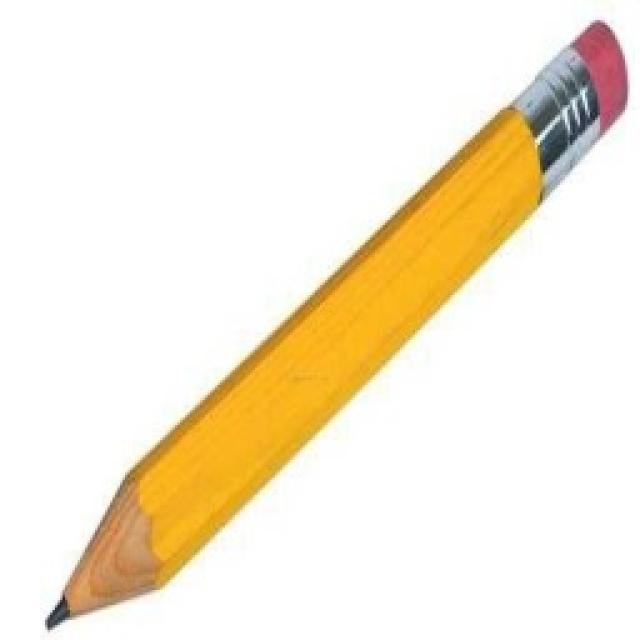pencil: (40, 12, 632, 632)
